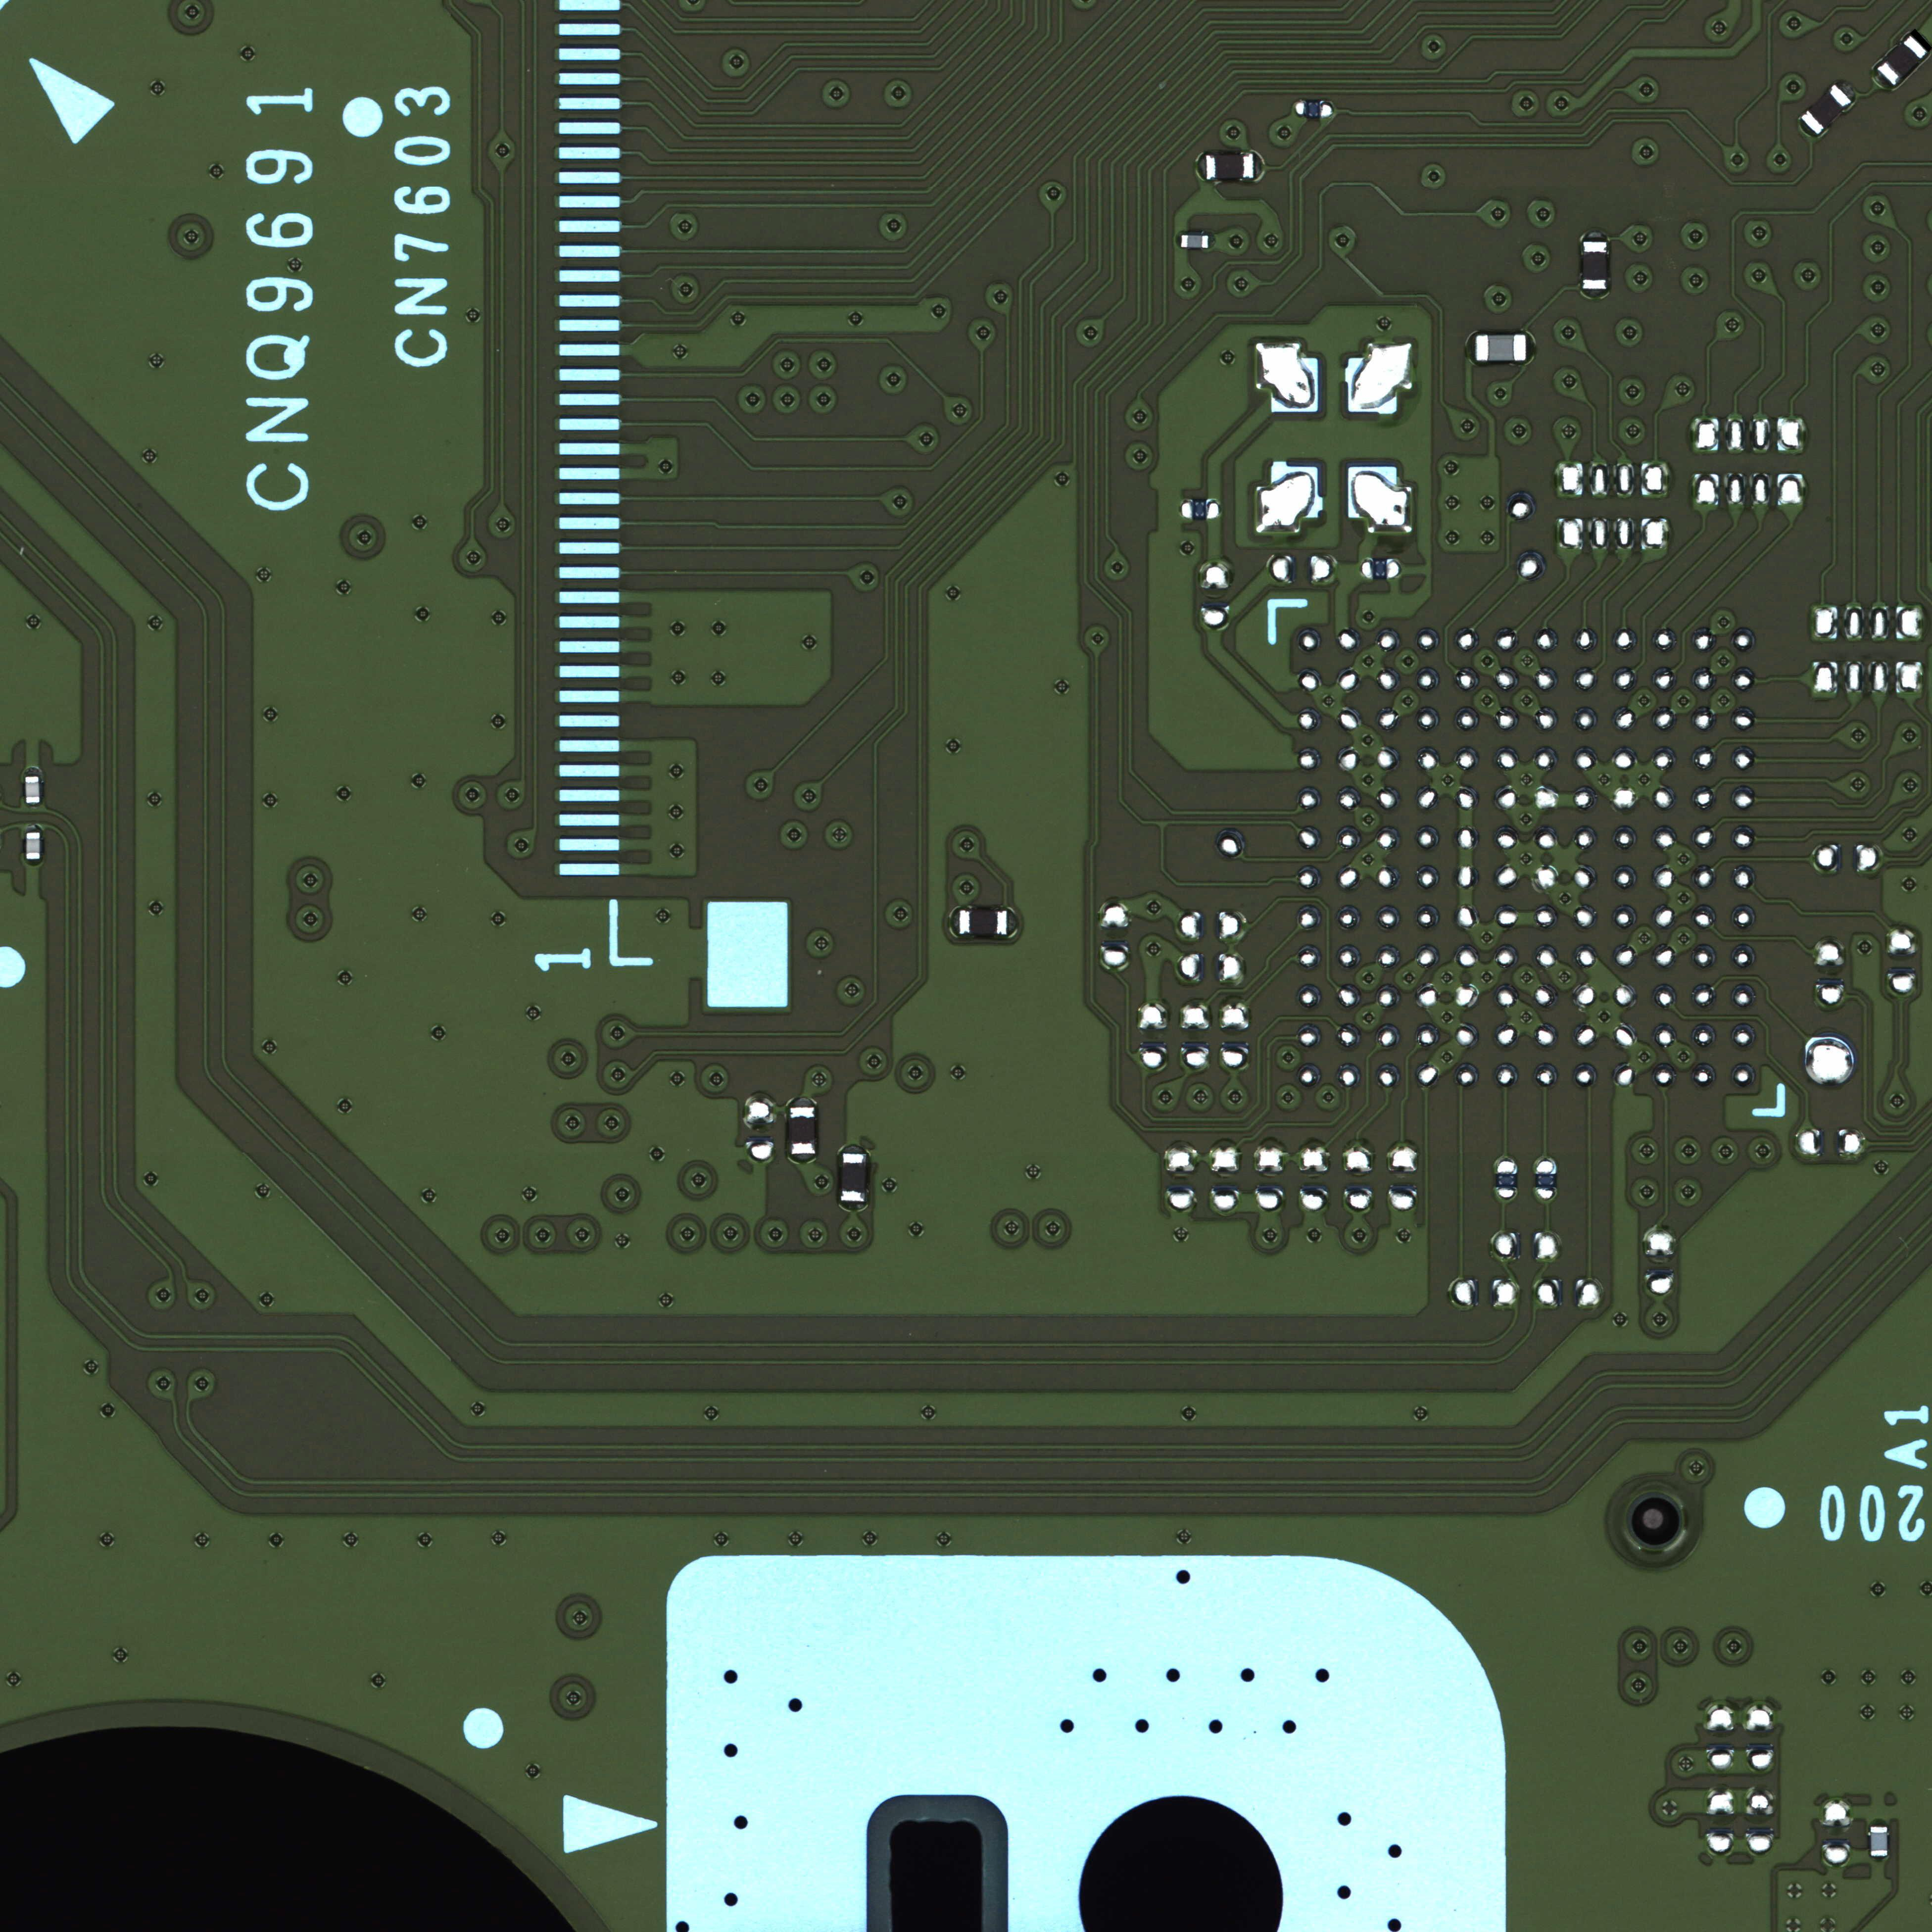Package: (1801, 83, 1852, 134), (1877, 35, 1927, 85), (1476, 334, 1527, 361), (1207, 154, 1254, 180), (789, 1108, 816, 1154), (1582, 242, 1608, 288), (840, 1154, 865, 1201), (959, 909, 1007, 934), (1870, 1826, 1888, 1856), (25, 832, 41, 860), (25, 777, 41, 803), (1182, 235, 1208, 248)
Solder: (1835, 76, 1859, 103), (1794, 117, 1819, 143), (1868, 67, 1895, 92), (839, 1201, 869, 1214), (1465, 331, 1476, 364), (789, 1154, 817, 1166), (1008, 908, 1019, 938), (1254, 152, 1265, 182), (948, 908, 959, 938), (789, 1095, 816, 1106), (1527, 333, 1536, 364), (1582, 288, 1608, 299), (1583, 232, 1608, 242), (1196, 152, 1205, 180), (839, 1145, 867, 1154), (25, 766, 41, 777), (1208, 232, 1217, 249), (25, 823, 42, 832), (25, 860, 44, 867), (1870, 1819, 1888, 1826), (1870, 1856, 1888, 1861), (1175, 234, 1180, 249), (25, 803, 41, 807)
